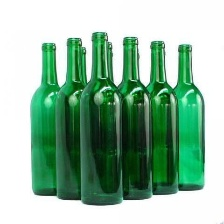bottle: (77, 30, 123, 208), (111, 34, 154, 205), (168, 42, 210, 197), (142, 38, 182, 198), (54, 33, 91, 203), (26, 39, 61, 204)
